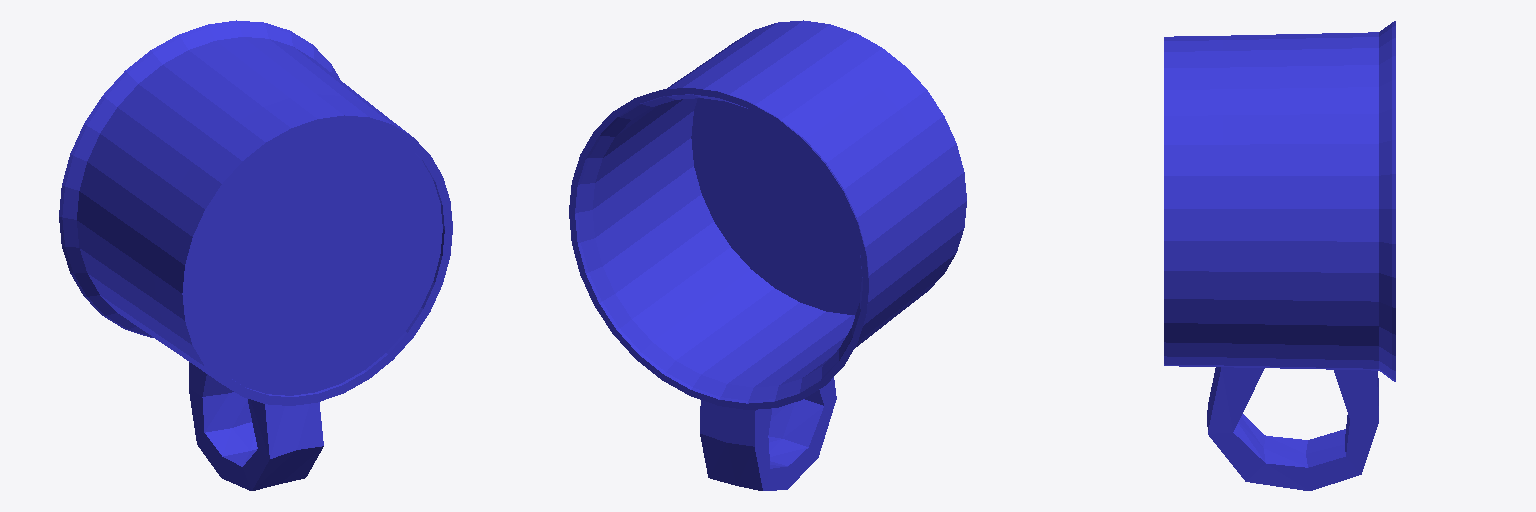
The robot description file, URDF, robot "mug_3":
<?xml version="1.0"?>
<robot name="mug_3">
  <link name="mug_base_link">
    <contact>
      <lateral_friction value="1.0"/>
      <spinning_friction value=".001"/>
    </contact>
    <inertial>
      <origin rpy="0 0 0" xyz="0 0 0"/>
      <mass value="0.2"/>
      <inertia ixx="1" ixy="0" ixz="0" iyy="1" iyz="0" izz="1"/>
    </inertial>
    <visual>
      <origin rpy="0 0 0" xyz="0.0 0.0 0.0"/>
      <geometry>
        <mesh filename="./m3.obj" scale="1 .75 1"/>
      </geometry>
      <material name="mug_mat">
        <color rgba="0.3 0.3 0.9 1"/>
      </material>
    </visual>
    <collision>
      <origin rpy="0 0 0" xyz="0.0 0.0 0.0"/>
      <geometry>
        <mesh filename="./m3_cd.obj" scale="1 .75 1"/>
      </geometry>
    </collision>
  </link>
</robot>

--- Render facts (derived) ---
Views: 3 orthographic renders of the robot side by side, from view 1: azimuth 30°, elevation 25°; view 2: azimuth 150°, elevation 25°; view 3: azimuth 270°, elevation 25°.
Model mug_3 with 1 links and 0 joints (none), rooted at mug_base_link, posed all joints at 0.
Visible links, largest first — view 1: mug_base_link; view 2: mug_base_link; view 3: mug_base_link.
Boxes of the visible links, x1,y1,x2,y2 form: mug_base_link: (59, 20, 452, 490); mug_base_link: (569, 20, 966, 490); mug_base_link: (1164, 21, 1395, 490).
Size in the robot's own frame: 3.39 by 2.18 by 4.55 metres.
1 mesh visuals loaded from 1 distinct referenced files (1 OBJ).